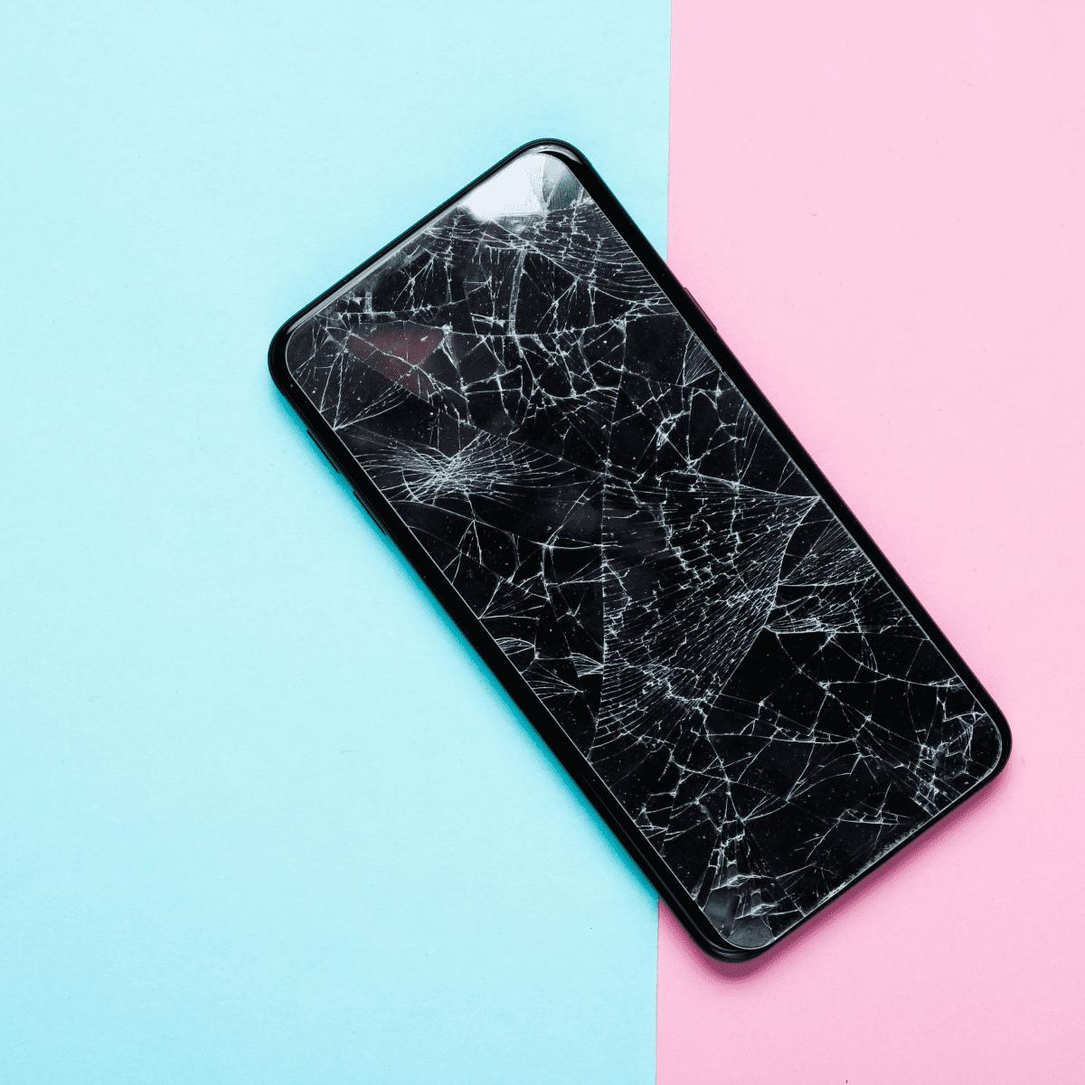Crack: (247, 132, 729, 557), (720, 377, 1001, 983), (424, 552, 721, 949)
